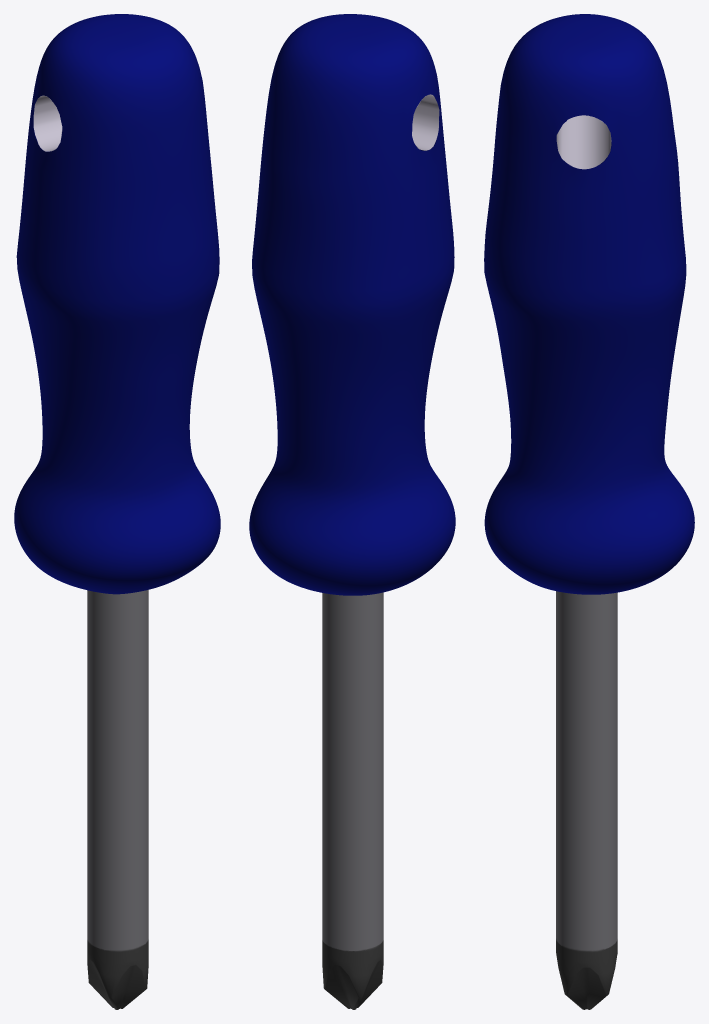
Rendered from Csavarhúzótest.fbx.
3 views of the same model, side by side, from view 1: azimuth 30°, elevation 25°; view 2: azimuth 150°, elevation 25°; view 3: azimuth 270°, elevation 25° (orthographic).
Visible parts, largest first — view 1: Csavarhuz:csillag; view 2: Csavarhuz:csillag; view 3: Csavarhuz:csillag.
Boxes of the visible parts, box(x1,y1,x2,y2) form: Csavarhuz:csillag: box(14, 14, 220, 1009); Csavarhuz:csillag: box(249, 14, 455, 1009); Csavarhuz:csillag: box(484, 14, 694, 1009).
Size of the model in its own units: 178 by 948 by 185.
